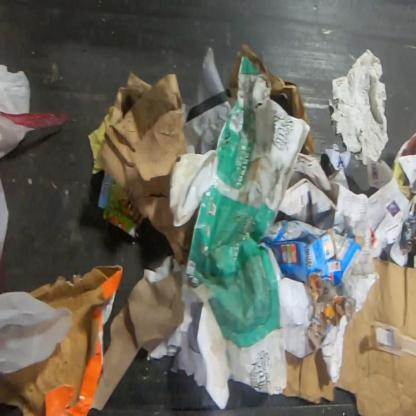cardboard: (0, 266, 183, 416), (88, 70, 199, 265), (281, 257, 415, 415), (258, 220, 368, 356), (228, 42, 317, 157), (96, 168, 146, 246)
soft_plastic: (0, 64, 74, 376)
